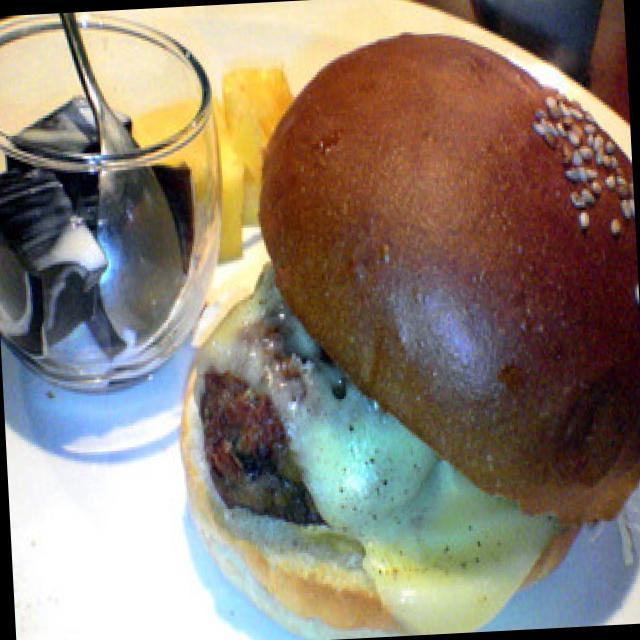Hamburger: (195, 0, 640, 629)
